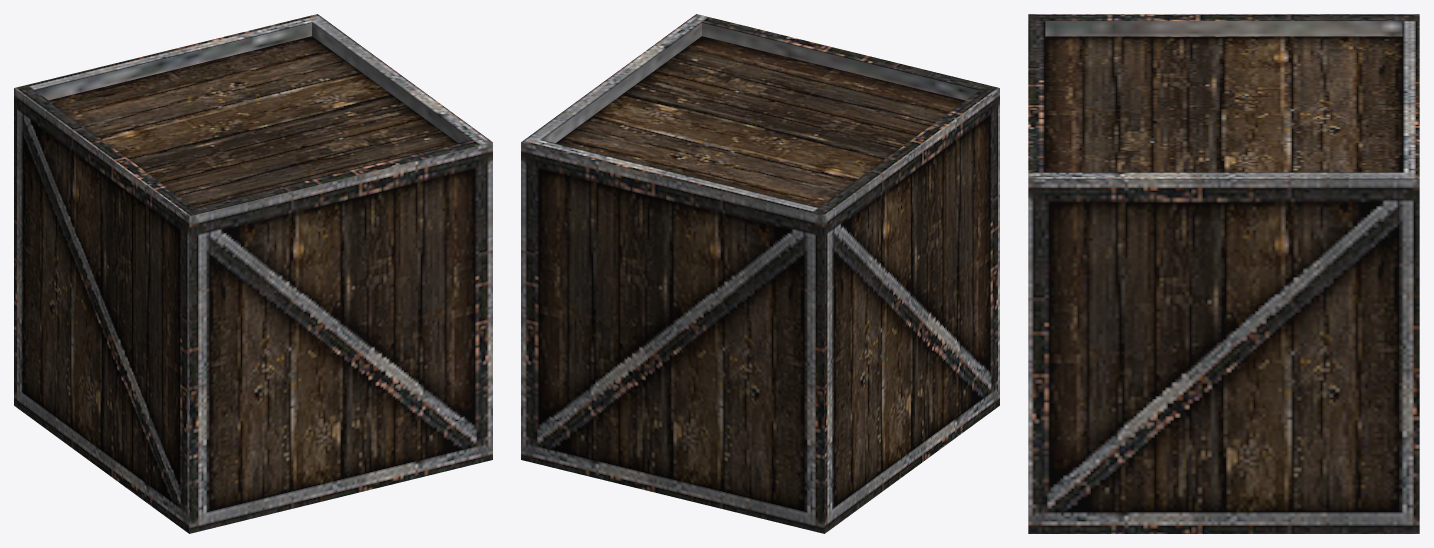
File: Crate.fbx
The picture shows the model from 3 angles, left to right: view 1: azimuth 30°, elevation 25°; view 2: azimuth 150°, elevation 25°; view 3: azimuth 270°, elevation 25°; orthographic projection. The views are drawn at different scales.
Visible parts, largest first — view 1: Crate; view 2: Crate; view 3: Crate.
Boxes of the visible parts, x1,y1,x2,y2 form: Crate: [14, 14, 492, 533]; Crate: [521, 14, 999, 533]; Crate: [1028, 14, 1419, 533].
Bounding box in the file's own units: 0.6667 × 0.6667 × 0.6667.
